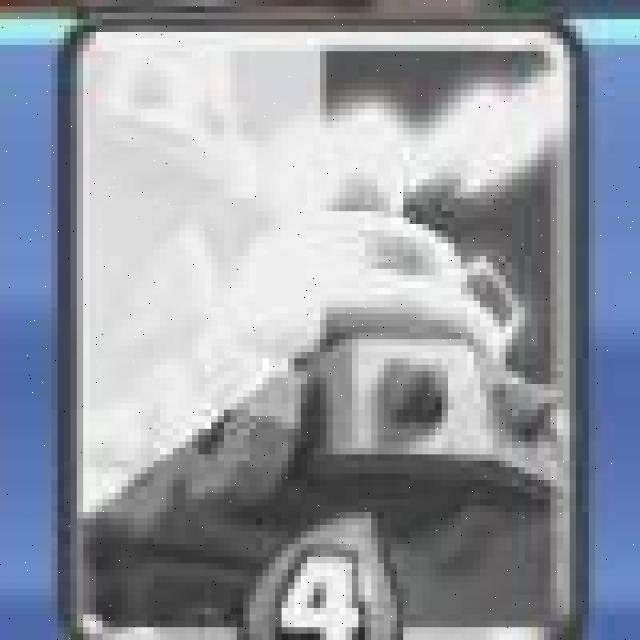Zappies: (78, 22, 584, 640)
